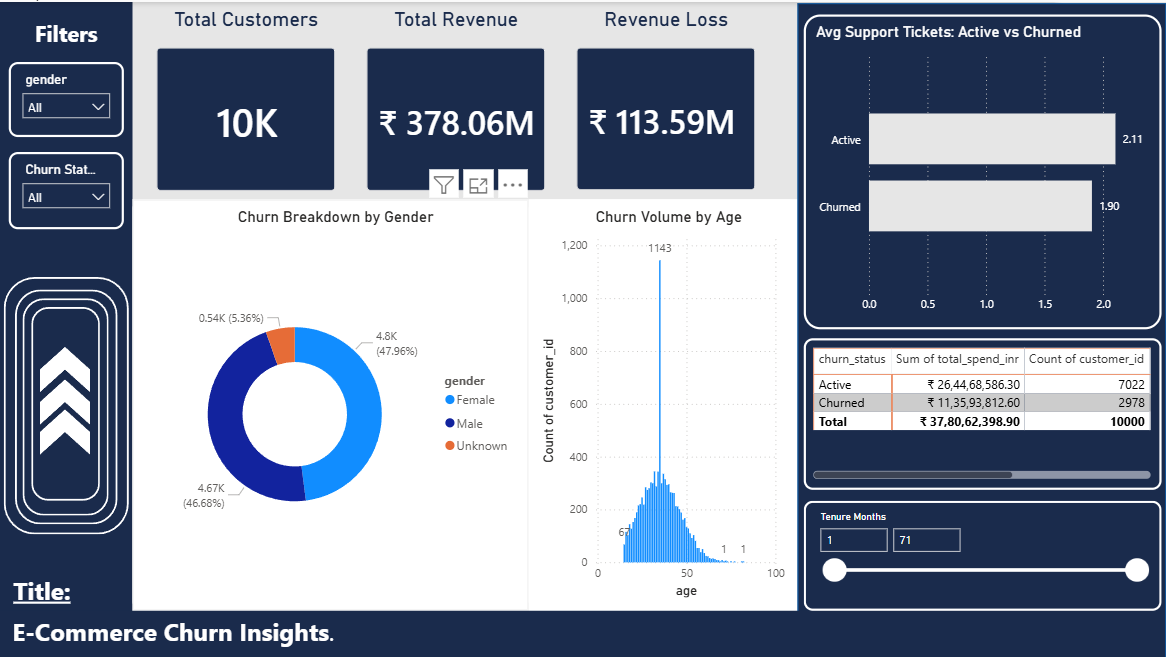

What the dashboard file says about the page in this screenshot:
{"tool":"powerbi","page":{"name":"Page 1","canvas":[1280,720],"ordinal":0},"visuals":[{"type":"shape","box":[2.7,1.4,137.2,282.7],"z":0},{"type":"shape","box":[43.9,0,1166.4,216.8],"z":1000},{"type":"cardVisual","title":"Total Customers","fields":{"Data":["CountNonNull(ecommerce_db customer_churn.customer_id)"]},"box":[155.1,6.6,230.5,218.2],"z":2000},{"type":"cardVisual","title":"Total Revenue","fields":{"Data":["Sum(ecommerce_db customer_churn.total_spend_inr)"]},"box":[385.6,6.6,230.5,218.2],"z":3000},{"type":"cardVisual","title":"Revenue Loss","fields":{"Data":["Sum(ecommerce_db customer_churn.total_spend_inr)"]},"box":[616.1,6.6,230.5,216.8],"z":4000},{"type":"shape","box":[0,0,145.5,720.4],"z":5000},{"type":"slicer","fields":{"Values":["ecommerce_db customer_churn.gender"]},"box":[9.6,66.1,126.2,82.3],"z":6000},{"type":"donutChart","title":"Churn Breakdown by Gender","fields":{"Category":["ecommerce_db customer_churn.gender"],"Y":["Count(ecommerce_db customer_churn.customer_id)"]},"box":[145.5,216.8,435,451.5],"z":7000},{"type":"clusteredColumnChart","title":"Churn Volume by Age","fields":{"Category":["ecommerce_db customer_churn.age"],"Y":["Count(ecommerce_db customer_churn.customer_id)"]},"box":[580.4,216.8,296.4,451.5],"z":8000},{"type":"shape","box":[875.5,1.4,404.8,719],"z":9000},{"type":"shape","box":[0,668.3,968.8,52.1],"z":10000},{"type":"clusteredBarChart","title":"Avg Support Tickets: Active vs Churned","fields":{"Category":["ecommerce_db customer_churn.churn_status"],"Y":["Avg(ecommerce_db customer_churn.num_support_tickets)"]},"box":[882.3,13.7,392.5,345.8],"z":11000},{"type":"slicer","fields":{"Values":["ecommerce_db customer_churn.churn_status"]},"box":[9.6,164.9,126.2,85.1],"z":12000},{"type":"slicer","fields":{"Values":["ecommerce_db customer_churn.tenure_months"]},"box":[882.3,547.5,392.5,120.8],"z":13000},{"type":"pivotTable","fields":{"Rows":["ecommerce_db customer_churn.churn_status"],"Values":["Sum(ecommerce_db customer_churn.total_spend_inr)","CountNonNull(ecommerce_db customer_churn.customer_id)","Avg(ecommerce_db customer_churn.last_order_days_ago)"]},"box":[882.3,369.1,392.5,166],"z":14000},{"type":"textbox","box":[24.7,13.7,96.1,45.3],"z":15000},{"type":"textbox","box":[0,668.3,373.2,52.1],"z":16000},{"type":"textbox","box":[9.6,623,82.3,45.3],"z":17000},{"type":"shape","box":[4.1,301.9,137.2,282.7],"z":18000},{"type":"shape","box":[16.5,315.6,112.5,258],"z":19000},{"type":"shape","box":[24.7,325.2,94.7,238.8],"z":20000},{"type":"shape","box":[34.3,334.8,75.5,212.7],"z":21000},{"type":"shape","box":[44.2,378.2,54.9,49.4],"z":22000},{"type":"shape","box":[44.2,413.9,54.9,49.4],"z":23000},{"type":"shape","box":[44.2,446.8,54.9,49.4],"z":24000}]}

Visuals, with their boxes in screenshot pixels (x1, y1, x2, y2), scaled from the page's 1280x720 canvas onto the 1166x657 screenshot:
shape: box(2, 1, 127, 259)
shape: box(40, 0, 1103, 198)
"Total Customers" cardVisual: box(141, 6, 351, 205)
"Total Revenue" cardVisual: box(351, 6, 561, 205)
"Revenue Loss" cardVisual: box(561, 6, 771, 204)
shape: box(0, 0, 133, 656)
slicer - ecommerce_db customer_churn.gender: box(9, 60, 124, 135)
"Churn Breakdown by Gender" donutChart: box(133, 198, 529, 610)
"Churn Volume by Age" clusteredColumnChart: box(529, 198, 799, 610)
shape: box(798, 1, 1165, 656)
shape: box(0, 610, 883, 656)
"Avg Support Tickets: Active vs Churned" clusteredBarChart: box(804, 13, 1161, 328)
slicer - ecommerce_db customer_churn.churn_status: box(9, 150, 124, 228)
slicer - ecommerce_db customer_churn.tenure_months: box(804, 500, 1161, 610)
pivotTable - ecommerce_db customer_churn.churn_status x Sum(ecommerce_db customer_churn.total_spend_inr): box(804, 337, 1161, 488)
textbox: box(23, 13, 110, 54)
textbox: box(0, 610, 340, 656)
textbox: box(9, 568, 84, 610)
shape: box(4, 275, 129, 533)
shape: box(15, 288, 118, 523)
shape: box(23, 297, 109, 515)
shape: box(31, 306, 100, 500)
shape: box(40, 345, 90, 390)
shape: box(40, 378, 90, 423)
shape: box(40, 408, 90, 453)
